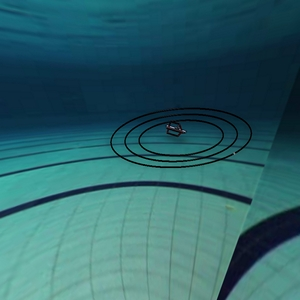circle: (104, 100, 255, 177)
submarine: (161, 119, 196, 147)
